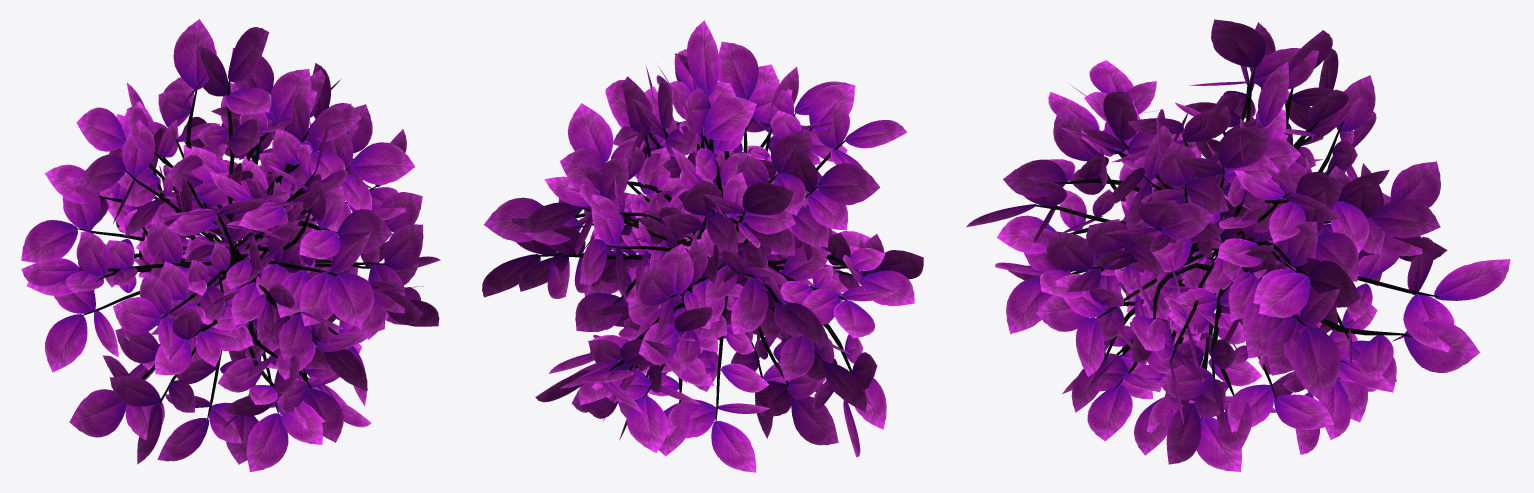
Rendered from purplebush5.fbx.
3 views of the same model, side by side, from view 1: azimuth 30°, elevation 25°; view 2: azimuth 150°, elevation 25°; view 3: azimuth 270°, elevation 25° (orthographic). The views are drawn at different scales.
Parts seen in each view (by area): view 1: pCylinder956; view 2: pCylinder956; view 3: pCylinder956.
Boxes of the visible parts, x1=… form: pCylinder956: x1=21, y1=19, x2=440, y2=472; pCylinder956: x1=482, y1=20, x2=923, y2=472; pCylinder956: x1=966, y1=19, x2=1510, y2=471.
Bounding box in the file's own units: 15.67 × 16.28 × 18.28.
